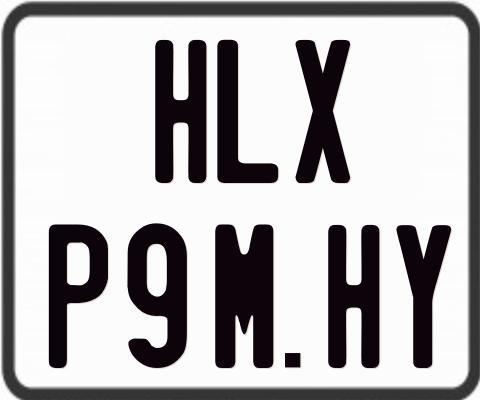9: (125, 223, 190, 374)
H: (326, 224, 383, 368), (155, 40, 211, 184)
L: (215, 37, 281, 183)
M: (215, 224, 274, 368)
P: (47, 221, 107, 370)
X: (293, 39, 347, 184)
Y: (397, 223, 457, 366)
